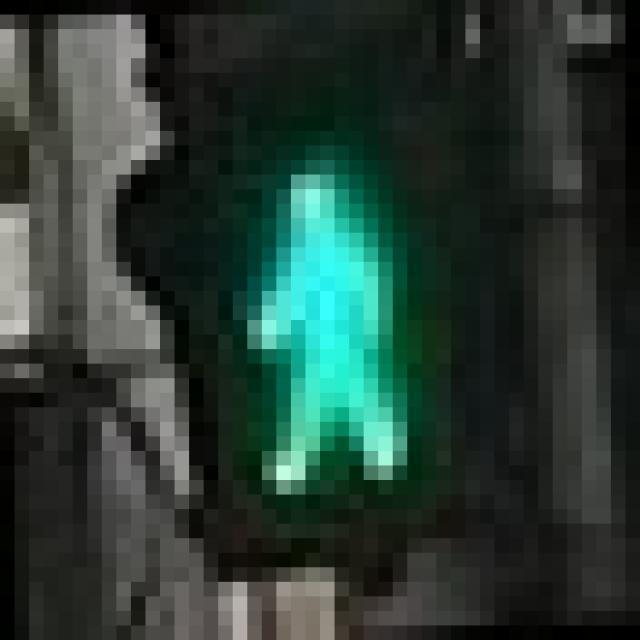geen-crossing: (102, 72, 494, 538)
